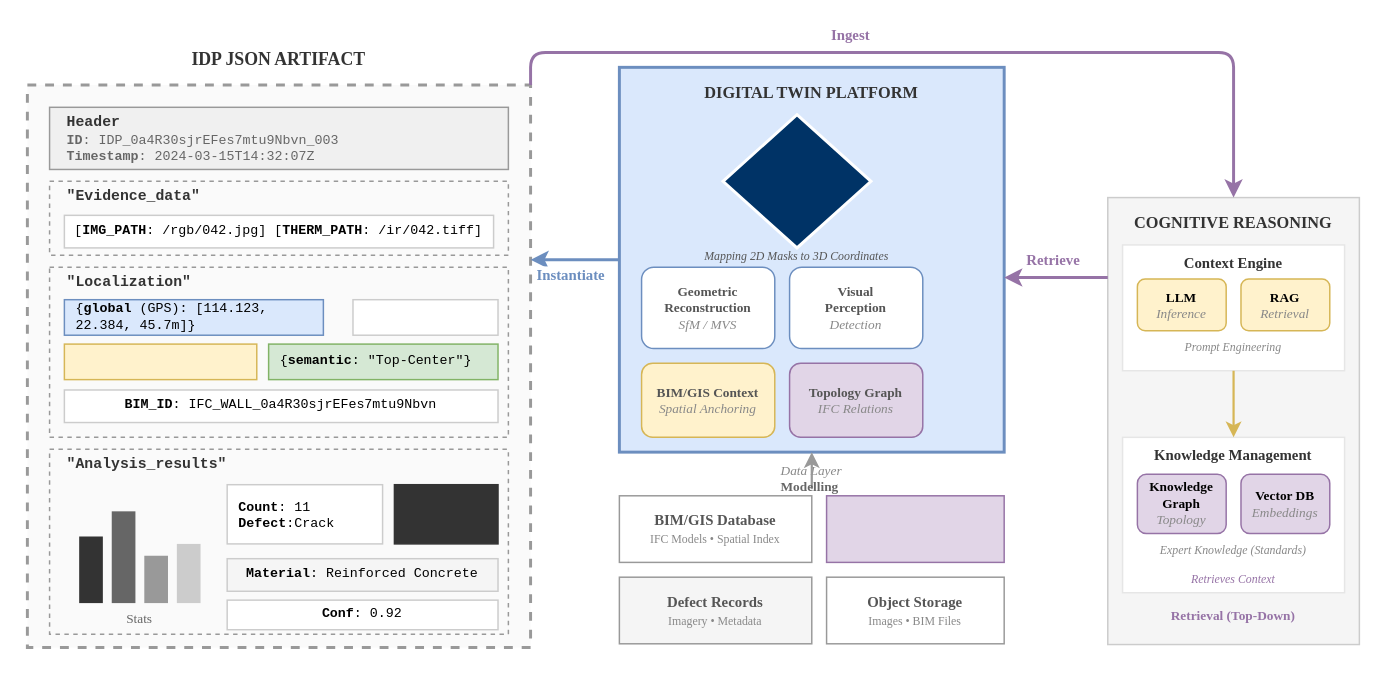
Some shapes in this 1385 by 673 pixel diagram are drawn without their labels. The box of each missing label's shape, as (x1, y1, x2, y2) in pixels:
Hierarchical Index Site → IAP → IDP: (825, 494, 1004, 562)
IDP (Integrated Defect Profile): (721, 112, 872, 249)
SEVERITY : CRITICAL: (393, 483, 498, 544)
{ local : [x:0.09, y:2.79]m}: (352, 298, 498, 335)
{ relative : [0.46, 0.93]}: (63, 343, 257, 380)
